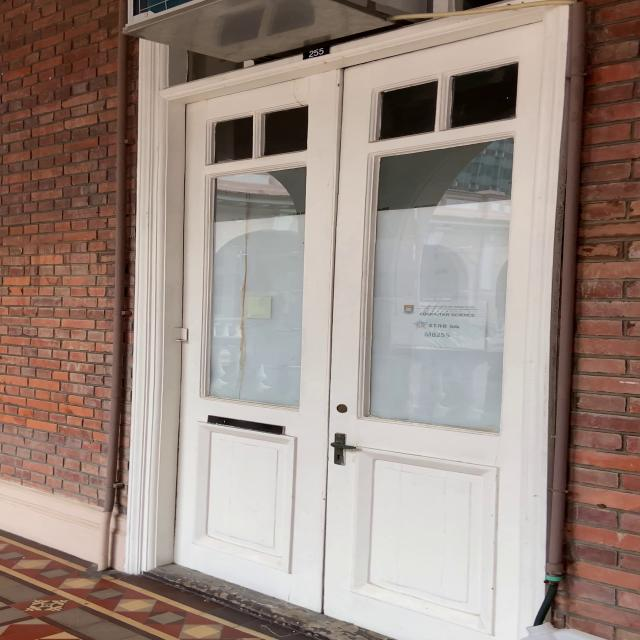room255: (302, 43, 332, 60)
